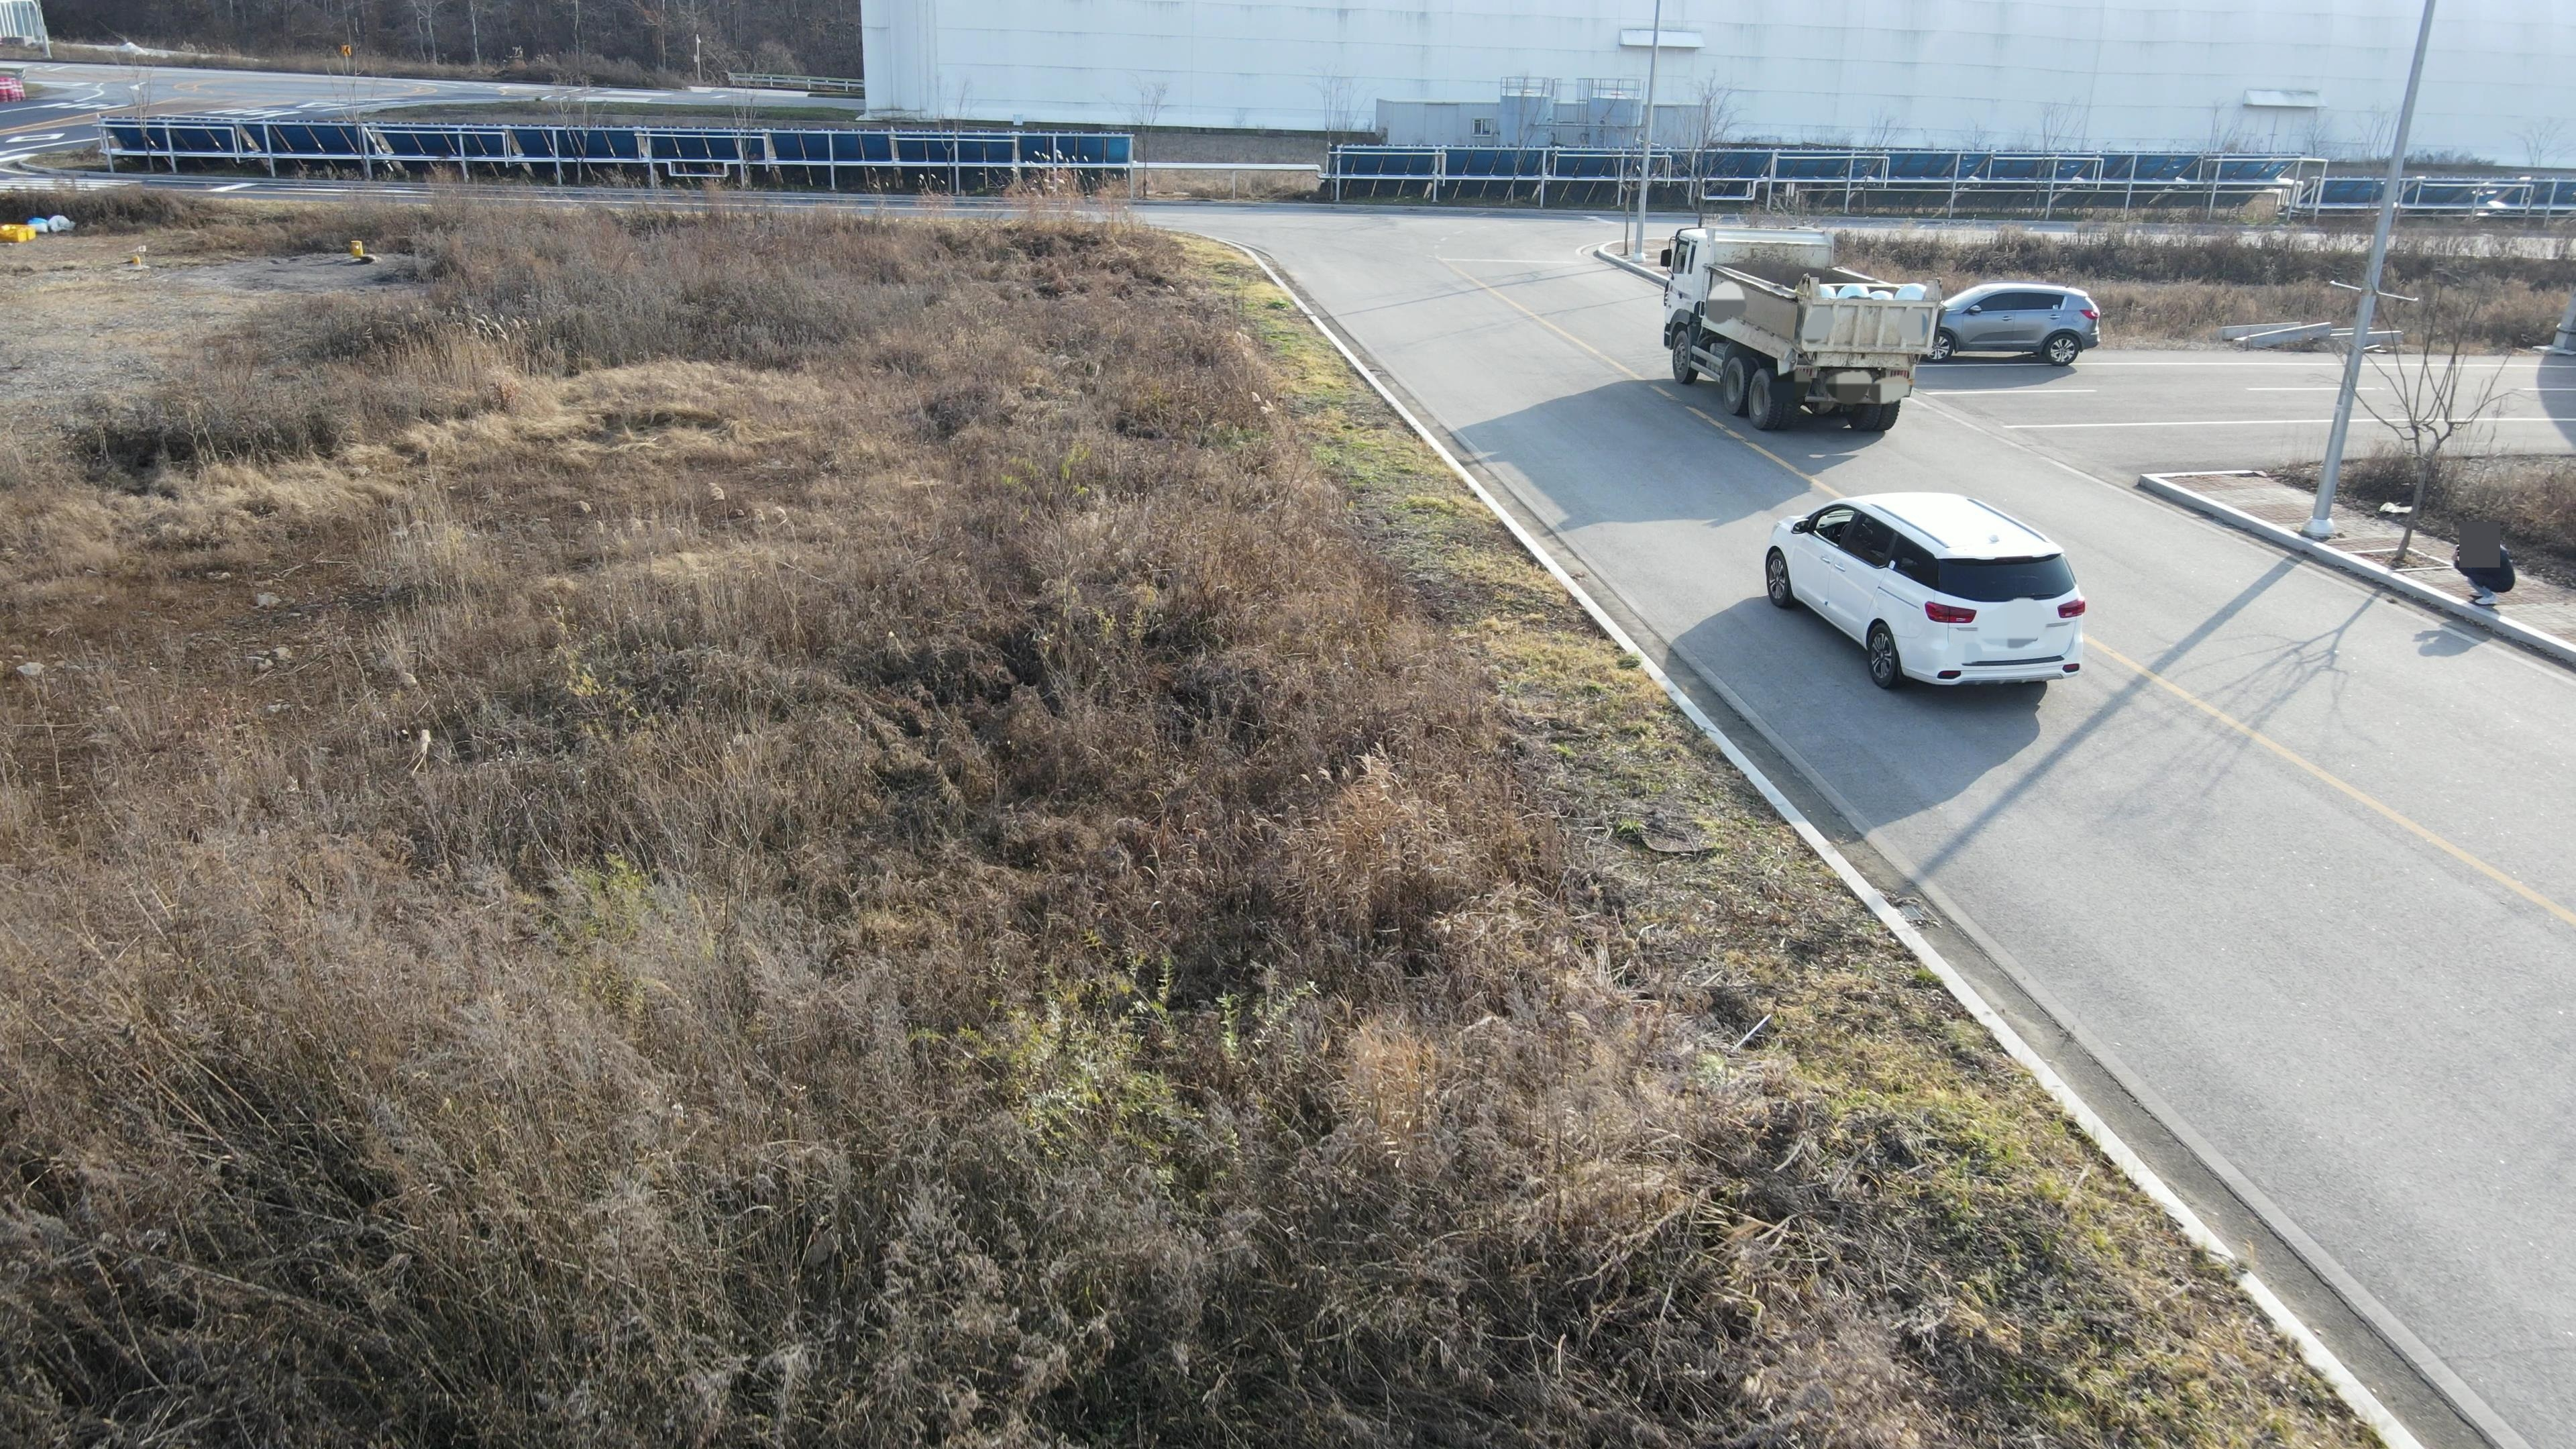불법차량: (1661, 226, 1946, 432)
